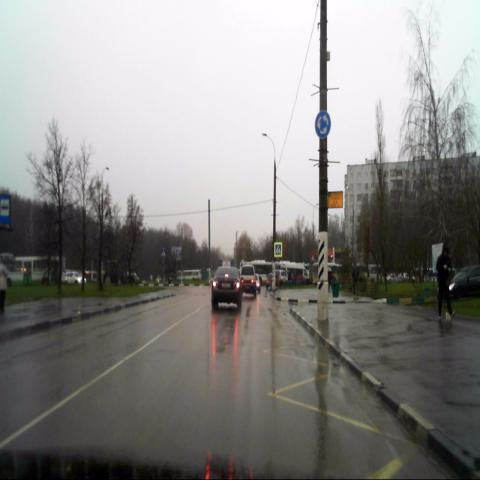4_3: (314, 111, 330, 138)
